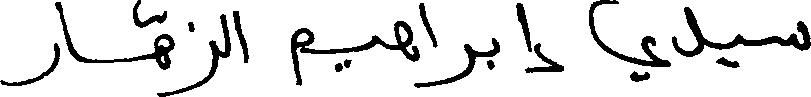X: (589, 0, 669, 86), (0, 0, 58, 90), (189, 17, 216, 94), (395, 16, 418, 92), (674, 2, 703, 61), (155, 6, 173, 96), (420, 0, 436, 91), (292, 23, 313, 90), (450, 39, 474, 87), (517, 0, 531, 77), (60, 0, 76, 64), (233, 6, 246, 67), (797, 16, 810, 55), (221, 9, 230, 62), (735, 29, 743, 72), (491, 33, 498, 74), (371, 30, 379, 52)
